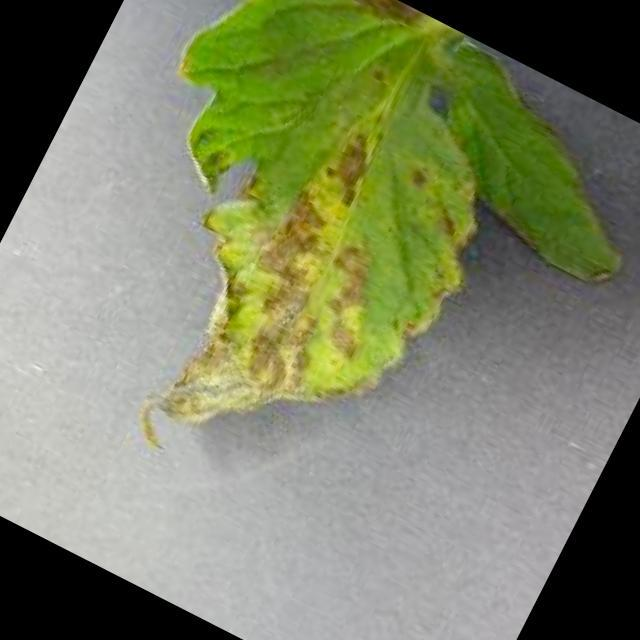Tomato bacterial spot leaf: (13, 0, 640, 611)
